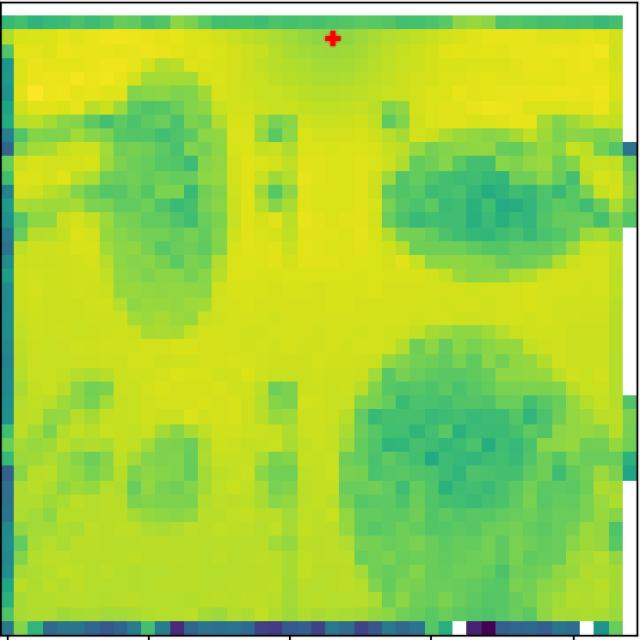Concrete: (413, 131, 579, 272)
Glass: (105, 93, 218, 314)
Metal: (372, 358, 567, 576)
Wood: (132, 423, 209, 522)
